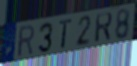2: (76, 14, 92, 48)
3: (38, 21, 54, 54)
8: (114, 8, 130, 41)
R: (17, 23, 36, 59), (94, 12, 114, 45)
T: (58, 17, 73, 49)
